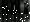person: (9, 3, 15, 16), (22, 4, 28, 15)
